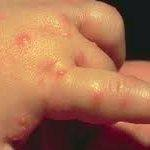Ants: (72, 49, 88, 67), (16, 113, 32, 129), (37, 58, 54, 71), (15, 32, 30, 46), (88, 91, 103, 105), (56, 14, 68, 24), (56, 68, 66, 78), (60, 32, 71, 40), (120, 98, 129, 107)
